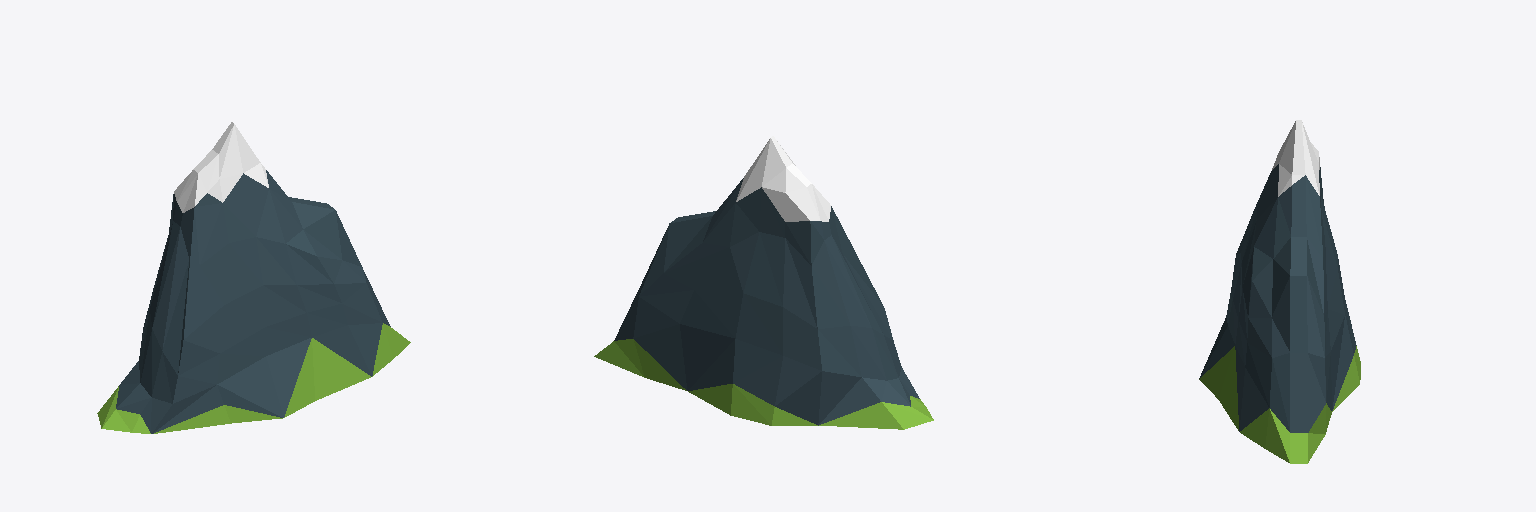
File: Mountain_01.obj
3 renders of one model, left to right at view 1: azimuth 30°, elevation 25°; view 2: azimuth 150°, elevation 25°; view 3: azimuth 270°, elevation 25°, orthographic.
Parts seen in each view (by area): view 1: Mountain_Cube; view 2: Mountain_Cube; view 3: Mountain_Cube.
Boxes of the visible parts, <box> form: Mountain_Cube: <box>97,122,410,433</box>; Mountain_Cube: <box>594,136,933,429</box>; Mountain_Cube: <box>1199,120,1360,463</box>.
Size of the model in its own units: 10.86 by 8.39 by 4.76.